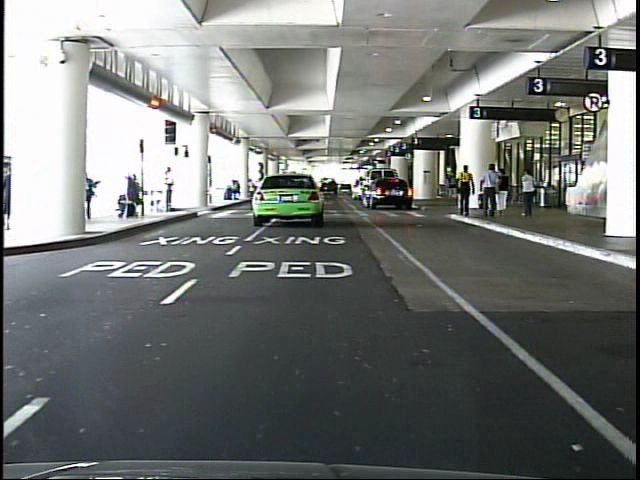person: (2, 168, 49, 226), (454, 162, 479, 224), (516, 165, 543, 222), (479, 162, 500, 219), (162, 166, 182, 217), (495, 166, 512, 222), (447, 168, 459, 205)
